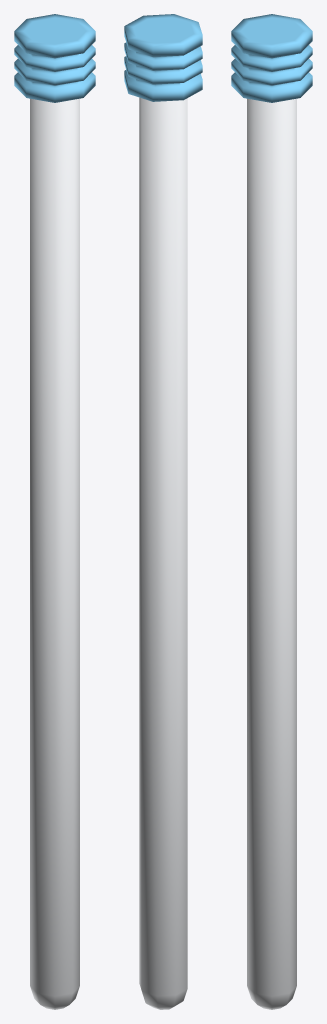
File: bottle_glassware_nrm_tube_small.glb
3 renders of one model, left to right at view 1: azimuth 90°, elevation 25°; view 2: azimuth 210°, elevation 25°; view 3: azimuth 270°, elevation 25°, orthographic.
Visible parts, largest first — view 1: bottle_glassware_nrm_tube_small, bottle_glassware_nrm_tube_small_cap; view 2: bottle_glassware_nrm_tube_small, bottle_glassware_nrm_tube_small_cap; view 3: bottle_glassware_nrm_tube_small, bottle_glassware_nrm_tube_small_cap.
Part boxes in pixels (x1,y1,x2,y2): bottle_glassware_nrm_tube_small: (30, 98, 79, 1009); bottle_glassware_nrm_tube_small_cap: (14, 14, 95, 102); bottle_glassware_nrm_tube_small: (139, 97, 187, 1009); bottle_glassware_nrm_tube_small_cap: (124, 14, 202, 101); bottle_glassware_nrm_tube_small: (247, 98, 296, 1009); bottle_glassware_nrm_tube_small_cap: (231, 14, 312, 102).
Size of the model in its own units: 1.29 by 17.09 by 1.29.
2 materials, 2 textured.
